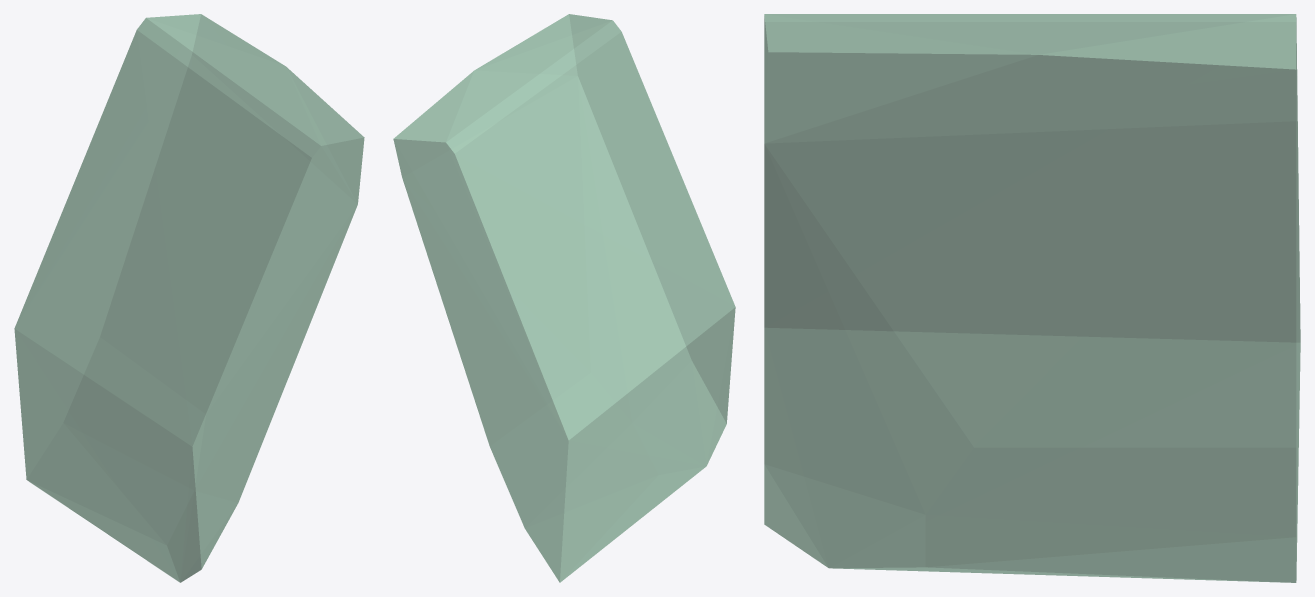
3 views of the same model, side by side, from view 1: azimuth 30°, elevation 25°; view 2: azimuth 150°, elevation 25°; view 3: azimuth 270°, elevation 25° (orthographic). The views are drawn at different scales.
Parts seen in each view (by area): view 1: Shape_IndexedFaceSet.018_Shape_IndexedFaceSet.4364; view 2: Shape_IndexedFaceSet.018_Shape_IndexedFaceSet.4364; view 3: Shape_IndexedFaceSet.018_Shape_IndexedFaceSet.4364.
Boxes of the visible parts, x1,y1,x2,y2 form: Shape_IndexedFaceSet.018_Shape_IndexedFaceSet.4364: [14, 14, 364, 582]; Shape_IndexedFaceSet.018_Shape_IndexedFaceSet.4364: [393, 14, 735, 582]; Shape_IndexedFaceSet.018_Shape_IndexedFaceSet.4364: [764, 14, 1300, 582].
Bounding box in the file's own units: 0.1288 × 0.2875 × 0.2125.
